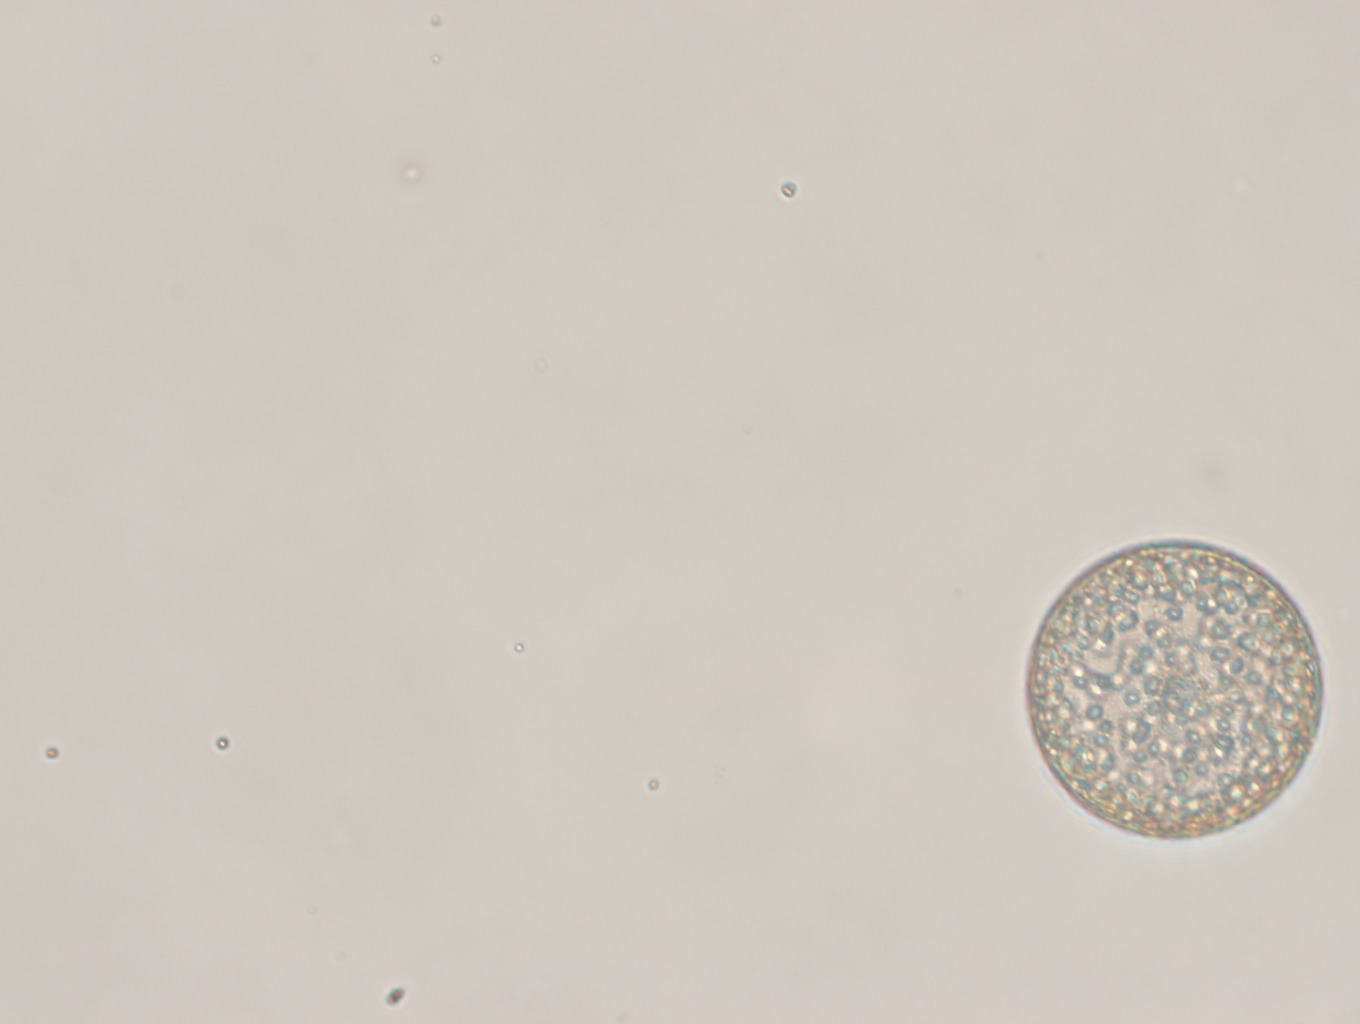coscinodiscus: (1019, 531, 1333, 847)
